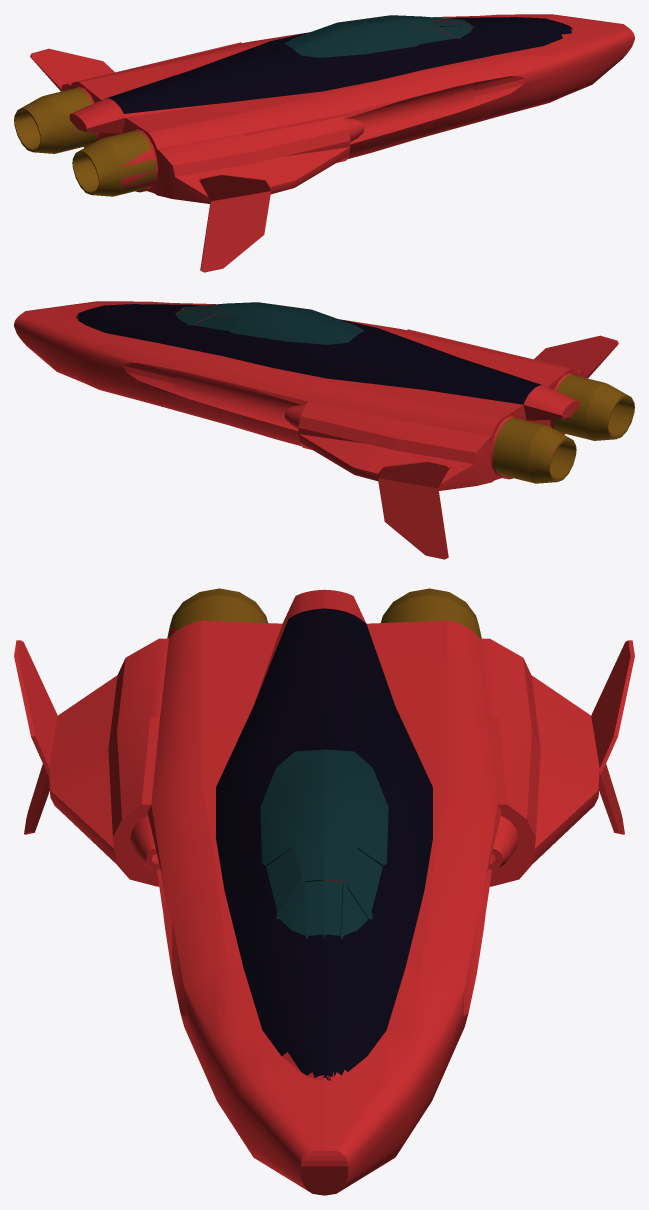
Rendered from red-ship.glb.
3 renders of one model, top to bottom at view 1: azimuth 30°, elevation 25°; view 2: azimuth 150°, elevation 25°; view 3: azimuth 270°, elevation 25°, orthographic. The views are drawn at different scales.
Parts seen in each view (by area): view 1: red_ship; view 2: red_ship; view 3: red_ship.
Boxes of the visible parts, x1=… form: red_ship: x1=14, y1=14, x2=634, y2=272; red_ship: x1=14, y1=301, x2=634, y2=559; red_ship: x1=14, y1=588, x2=634, y2=1195.
Size of the model in its own units: 17.13 by 3.71 by 8.96.
